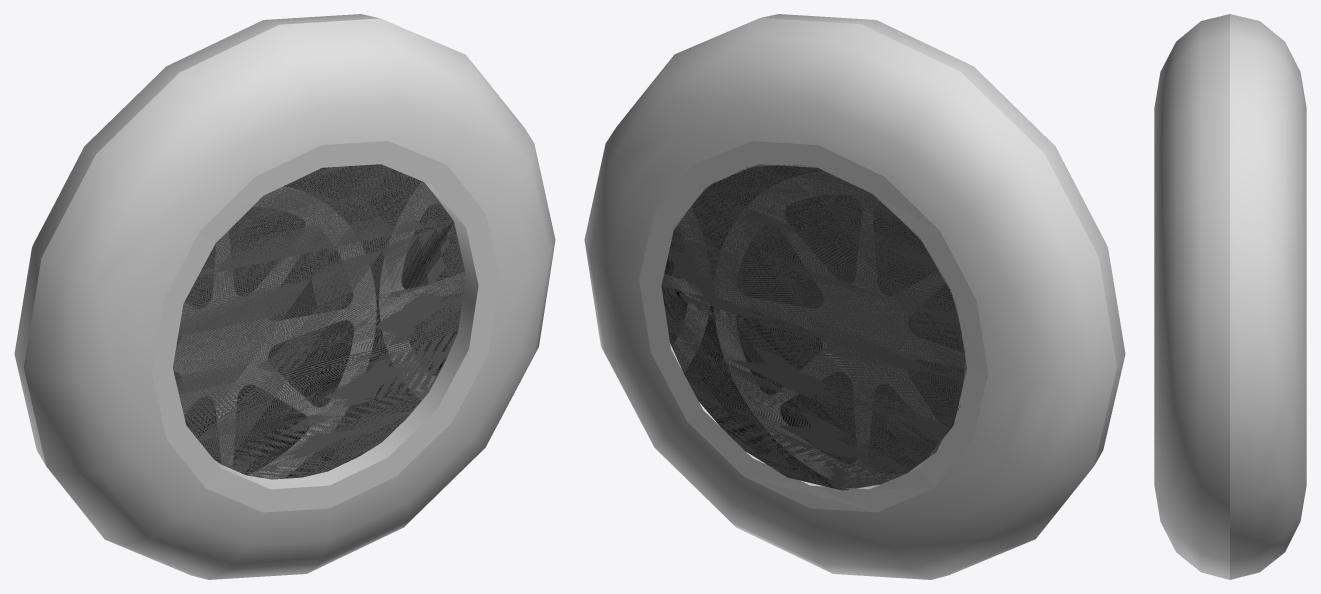
File: right_wheel_back.dae
3 views of the same model, side by side, from view 1: azimuth 30°, elevation 25°; view 2: azimuth 150°, elevation 25°; view 3: azimuth 270°, elevation 25° (orthographic). The views are drawn at different scales.
Parts seen in each view (by area): view 1: group_3, group_43; view 2: group_3, group_43.002; view 3: group_3.
Boxes of the visible parts, x1,y1,x2,y2 form: group_3: [14, 14, 555, 579]; group_43: [173, 164, 466, 479]; group_3: [584, 14, 1125, 579]; group_43.002: [661, 164, 965, 490]; group_3: [1154, 14, 1306, 579].
Size of the model in its own units: 0.1199 by 0.0323 by 0.12.
3 materials, 1 textured.
